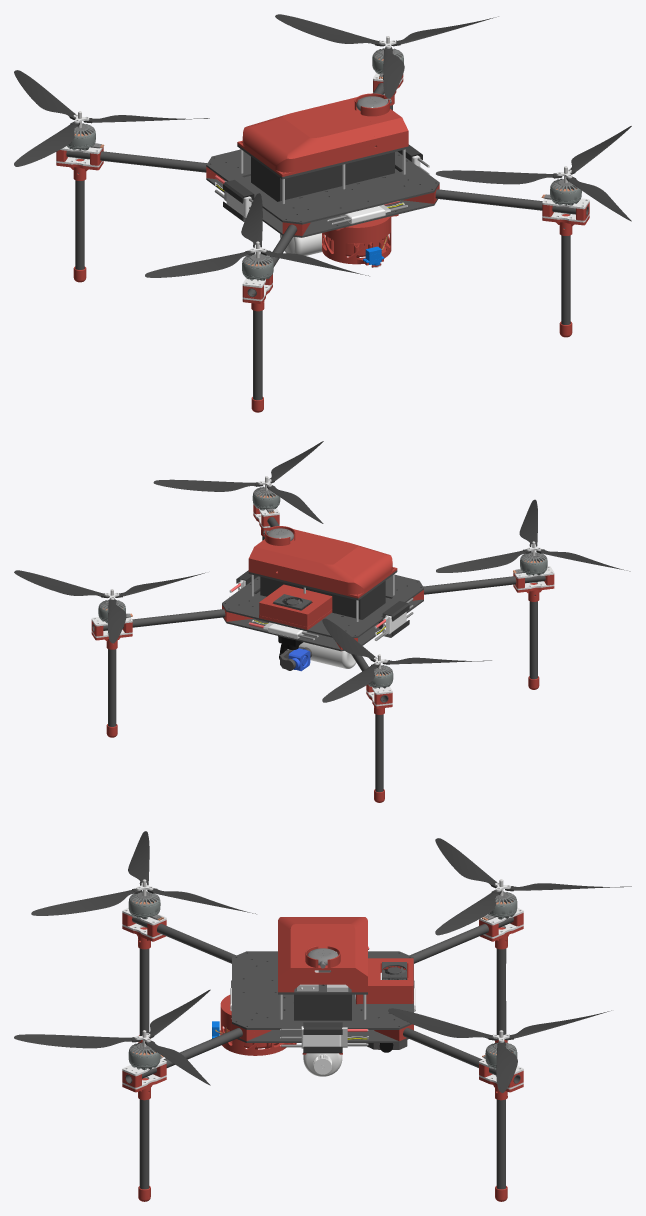
Rendered from storm-final-optimized-v3.glb.
3 views of the same model, one above another, from view 1: azimuth 30°, elevation 25°; view 2: azimuth 150°, elevation 25°; view 3: azimuth 270°, elevation 25° (orthographic). The views are drawn at different scales.
Parts seen in each view (by area): view 1: Body2.002, Body1.010, Body1.011, Body1.089, Body1.019, Body1, Body1.047, Body1.049, Body1.091, Body1.095, Body1.102, Body1.099 (+14 smaller); view 2: Body2.002, Body1.010, Body1.113, Body1.011, Body1.019, Body1, Body1.002, Body1.092, Body1.048, Body1.094, Body1.104, Body1.081 (+10 smaller); view 3: Body1.010, Body2.002, Body1.019, Body1.113, Body1.011, Body1, Body1.090, Body1.103, Body1.096, Body1.089, Body1.100, Body1.023 (+20 smaller).
Part boxes in pixels (box(x1,y1,x2,y2)): Body2.002: box(237, 100, 376, 176); Body1.010: box(206, 149, 439, 224); Body1.011: box(251, 152, 394, 201); Body1.089: box(322, 214, 398, 265); Body1.019: box(343, 93, 408, 157); Body1: box(206, 168, 437, 237); Body1.047: box(435, 189, 588, 215); Body1.049: box(66, 151, 207, 172); Body1.091: box(436, 170, 562, 184); Body1.095: box(275, 14, 384, 46); Body1.102: box(145, 250, 255, 277); Body1.099: box(14, 122, 79, 166); Body2.002: box(276, 532, 397, 598); Body1.010: box(222, 574, 423, 638); Body1.113: box(259, 584, 332, 626); Body1.011: box(260, 576, 385, 619); Body1.019: box(248, 526, 305, 581); Body1: box(223, 591, 423, 651); Body1.002: box(423, 575, 545, 594); Body1.092: box(153, 479, 263, 491); Body1.048: box(92, 609, 225, 631); Body1.094: box(14, 570, 109, 598); Body1.104: box(436, 549, 531, 572); Body1.081: box(299, 642, 356, 668); Body1.010: box(232, 951, 413, 1029); Body2.002: box(278, 917, 367, 959); Body1.019: box(278, 946, 367, 992); Body1.113: box(356, 958, 413, 1000); Body1.011: box(294, 994, 351, 1020); Body1: box(237, 994, 408, 1042); Body1.090: box(14, 1034, 140, 1048); Body1.103: box(31, 888, 141, 915); Body1.096: box(388, 1008, 497, 1040); Body1.089: box(219, 995, 296, 1055); Body1.100: box(435, 890, 501, 935); Body1.023: box(139, 1099, 149, 1189).
Size of the model in its own units: 0.9681 by 0.3394 by 0.9681.
